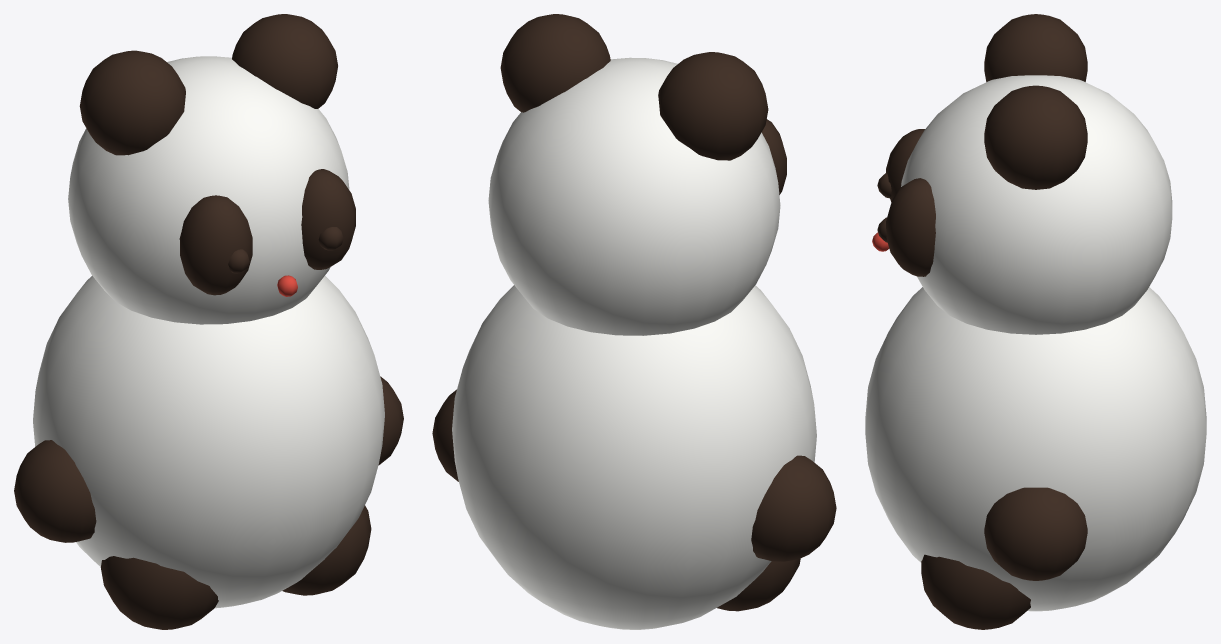
The model's file is wok_prop_panda.glb.
3 views of the same model, side by side, from view 1: azimuth 30°, elevation 25°; view 2: azimuth 150°, elevation 25°; view 3: azimuth 270°, elevation 25° (orthographic). The views are drawn at different scales.
Size of the model in its own units: 0.16 by 0.2265 by 0.1291.
